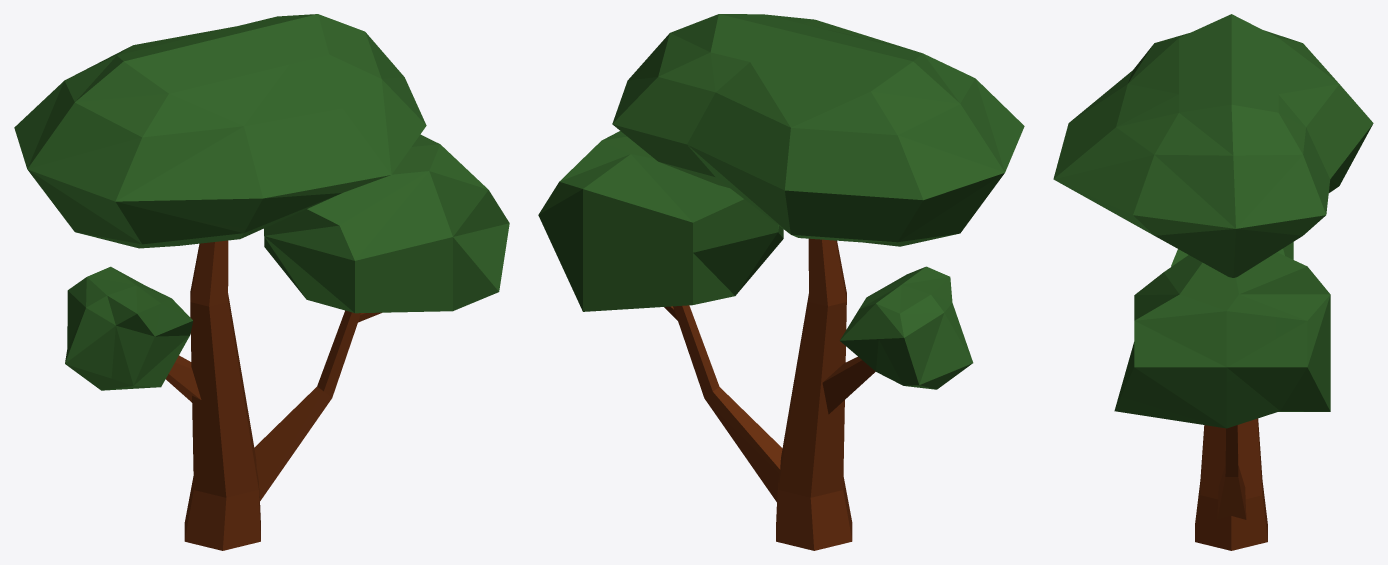
The model's file is tree_02.glb.
The picture shows the model from 3 angles, left to right: view 1: azimuth 30°, elevation 25°; view 2: azimuth 150°, elevation 25°; view 3: azimuth 270°, elevation 25°; orthographic projection. The views are drawn at different scales.
Visible parts, largest first — view 1: Tree_temp_climate_002; view 2: Tree_temp_climate_002; view 3: Tree_temp_climate_002.
Part boxes in pixels (left/top/right/bottom): Tree_temp_climate_002: left=14, top=14, right=509, bottom=550; Tree_temp_climate_002: left=538, top=14, right=1024, bottom=550; Tree_temp_climate_002: left=1053, top=14, right=1373, bottom=550.
Bounding box in the file's own units: 0.0887 × 0.0978 × 0.06.
1 material, 1 textured.
